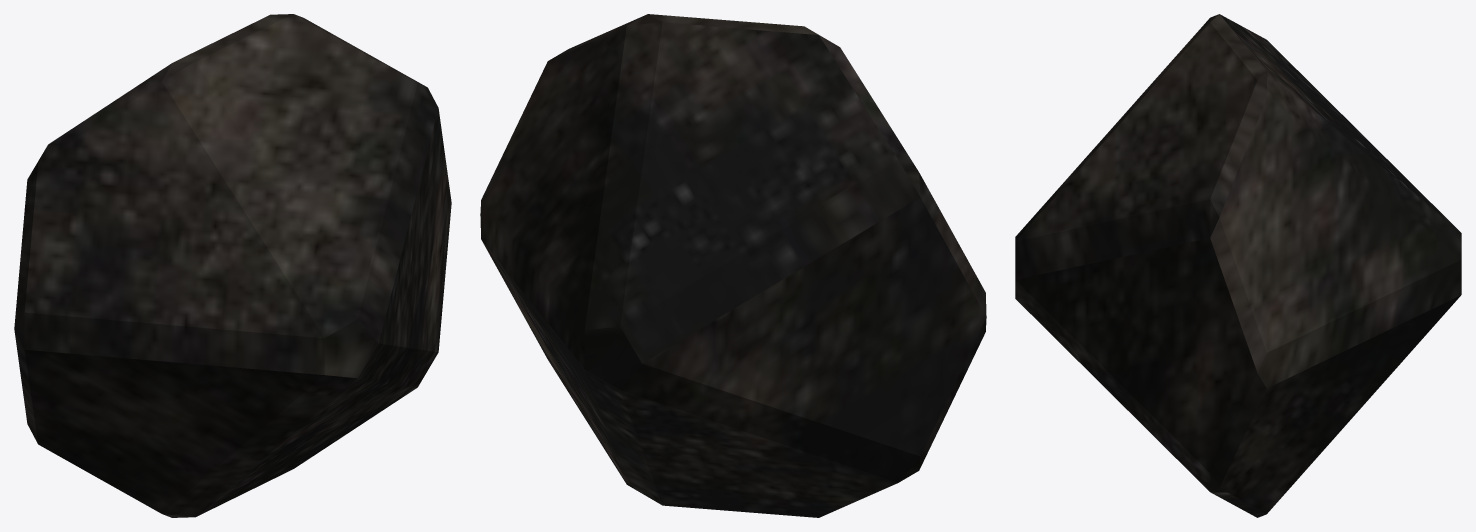
3 views of the same model, side by side, from view 1: azimuth 30°, elevation 25°; view 2: azimuth 150°, elevation 25°; view 3: azimuth 270°, elevation 25° (orthographic). The views are drawn at different scales.
Visible parts, largest first — view 1: d10; view 2: d10; view 3: d10.
Part boxes in pixels (<box>): d10: <box>14,14,451,517</box>; d10: <box>480,14,986,517</box>; d10: <box>1015,14,1461,517</box>.
Size of the model in its own units: 168 by 160 by 148.
Materials: 1 (1 with a texture image).
